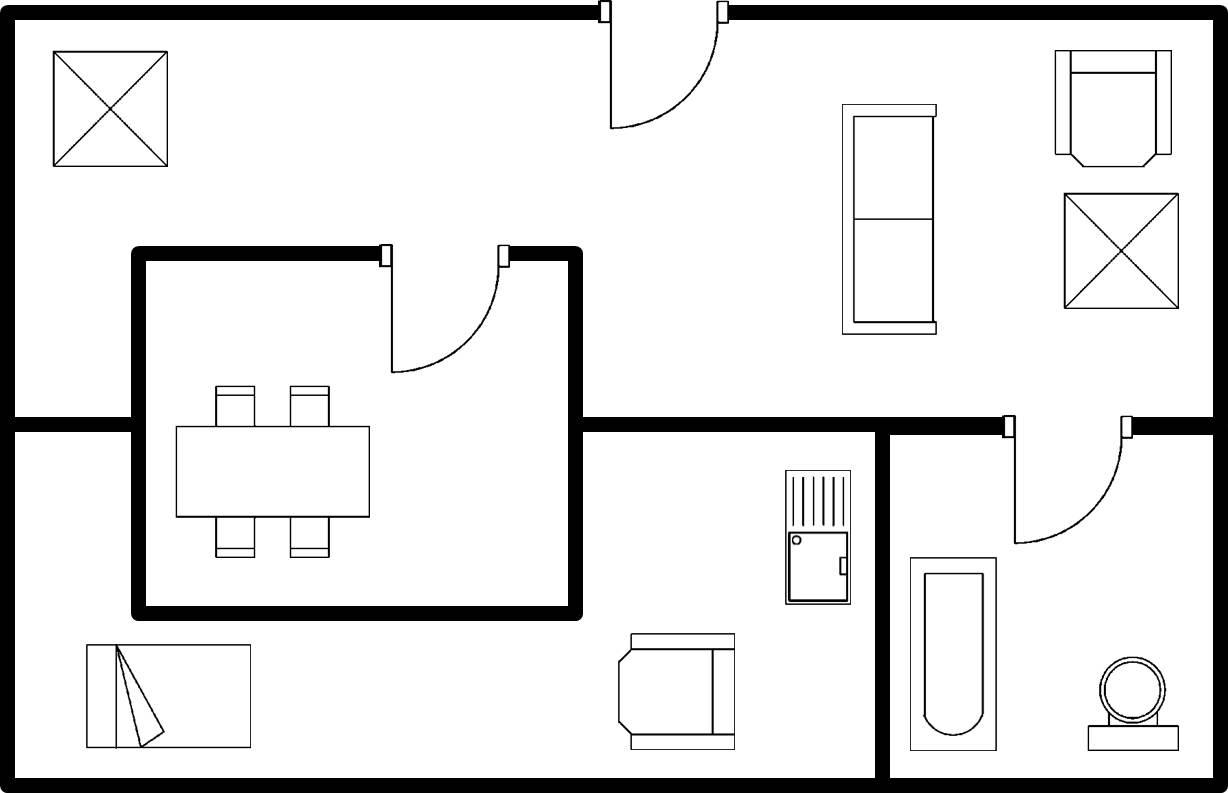bed: (78, 636, 255, 756)
dining_table: (171, 377, 379, 565)
sink: (778, 463, 855, 615)
sofa: (833, 96, 944, 340)
toilet: (1081, 647, 1184, 756)
tub: (902, 550, 1002, 758)
